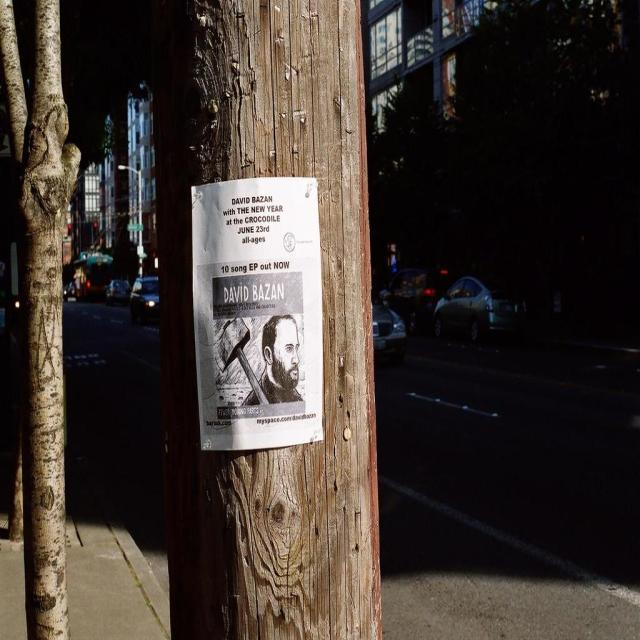car: (433, 267, 517, 329)
